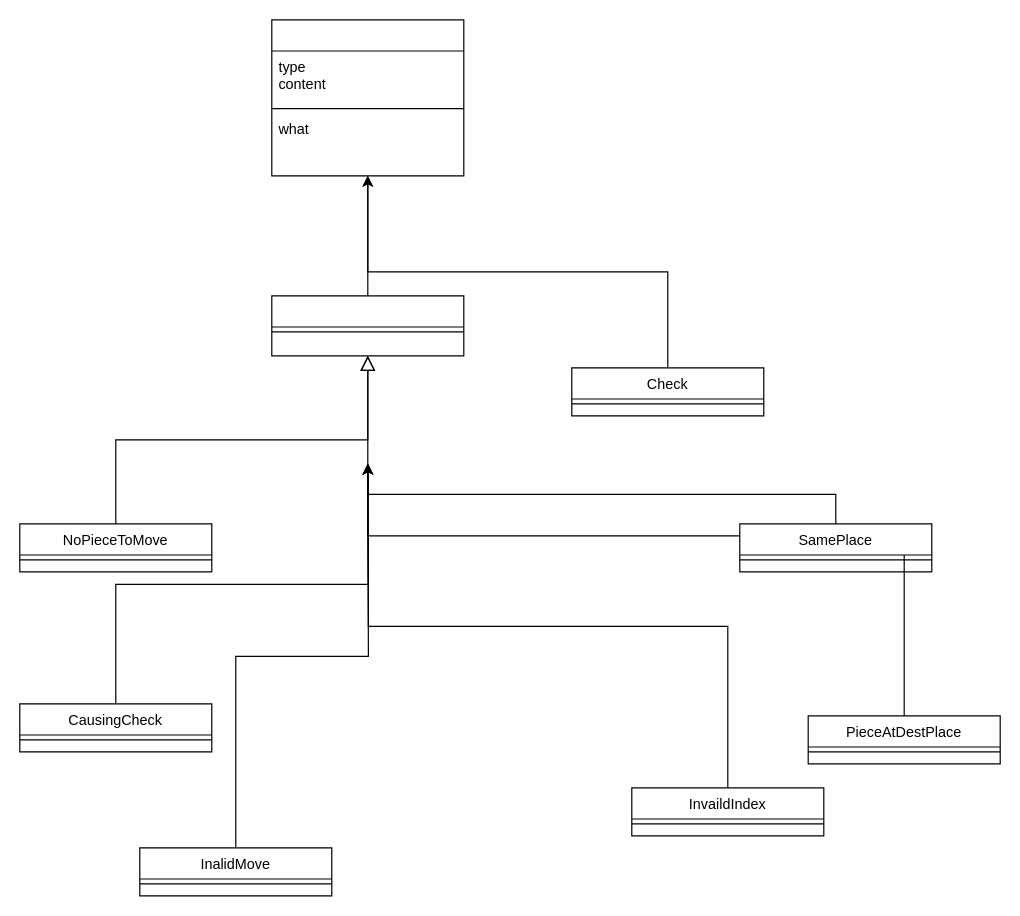
Image size: 1020x916. Some labels were removed from this diagram. The box of each missing label's shape, as (x1, y1, x2, y2) in pixels:
GameException: (271, 19, 464, 176)
MoveException: (271, 295, 464, 356)
